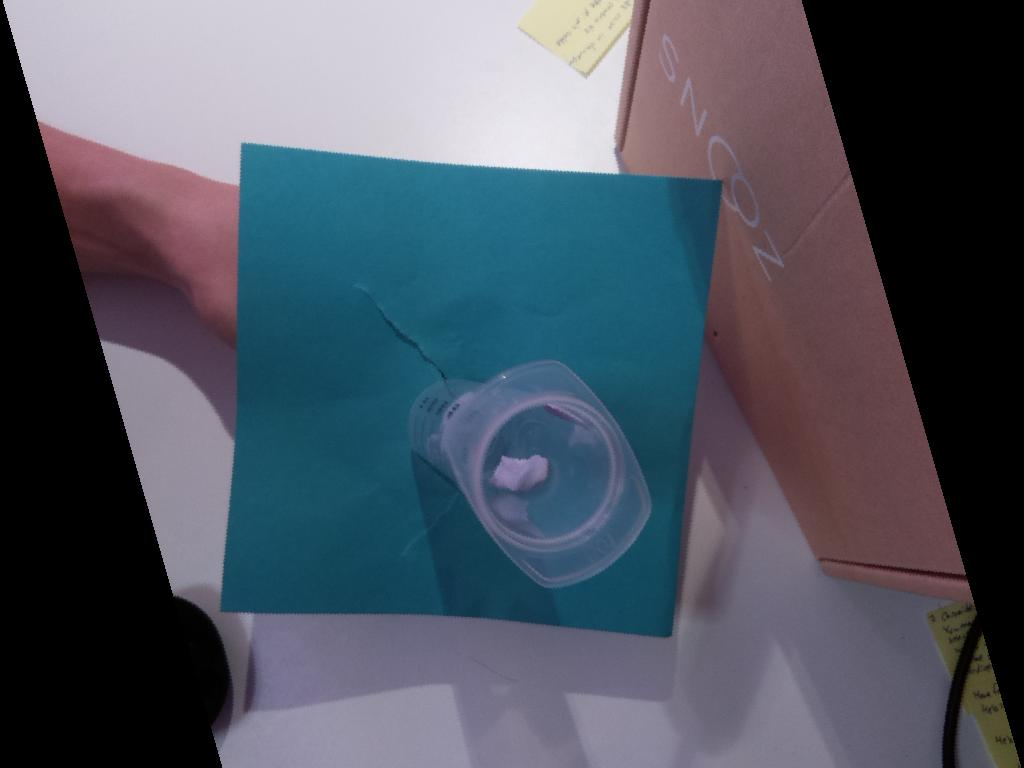dirty: (444, 361, 651, 589)
